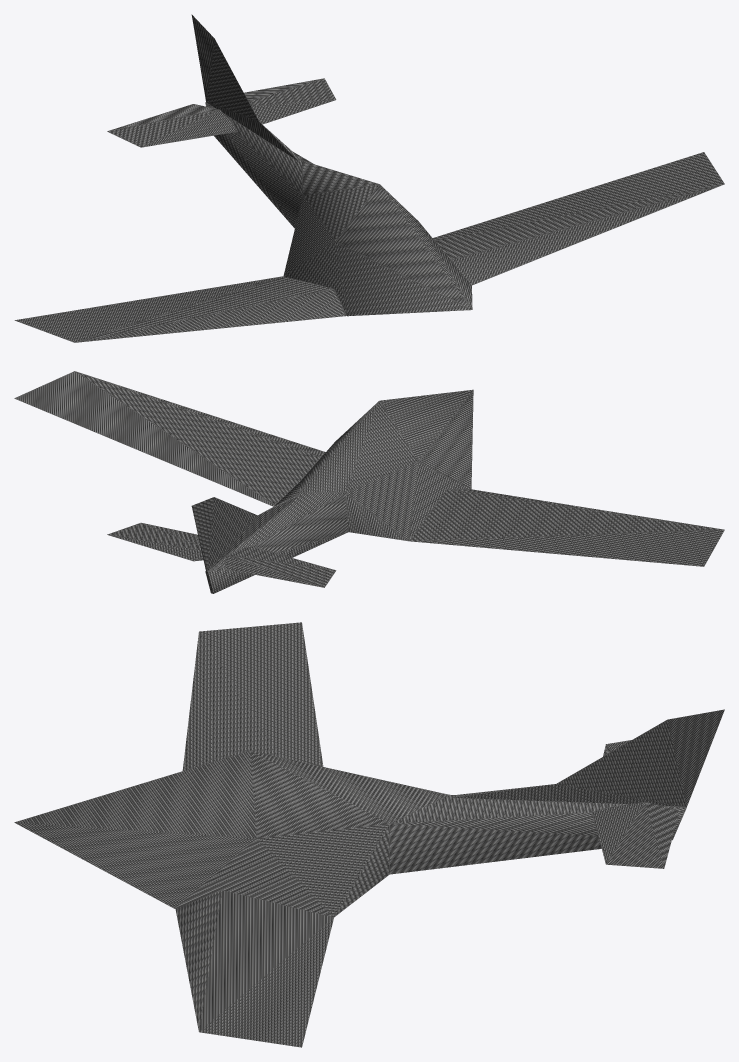
3 renders of one model, top to bottom at view 1: azimuth 30°, elevation 25°; view 2: azimuth 150°, elevation 25°; view 3: azimuth 270°, elevation 25°, orthographic. The views are drawn at different scales.
Parts seen in each view (by area): view 1: fuselage; view 2: fuselage; view 3: fuselage.
Part boxes in pixels (x1,y1,x2,y2): fuselage: (14, 14, 724, 342); fuselage: (14, 371, 724, 593); fuselage: (14, 622, 724, 1047).
Size of the model in its own units: 8.41 by 1.55 by 5.94.
